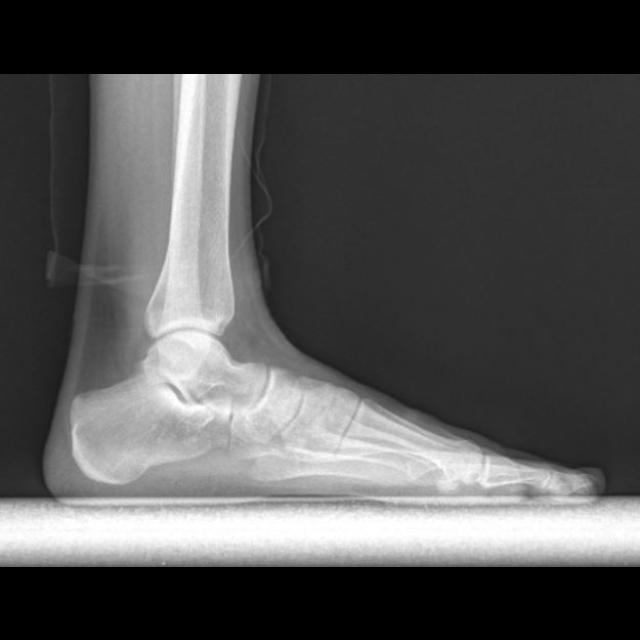a: (68, 368, 218, 481)
b: (247, 363, 305, 439)
c: (342, 400, 482, 491)
